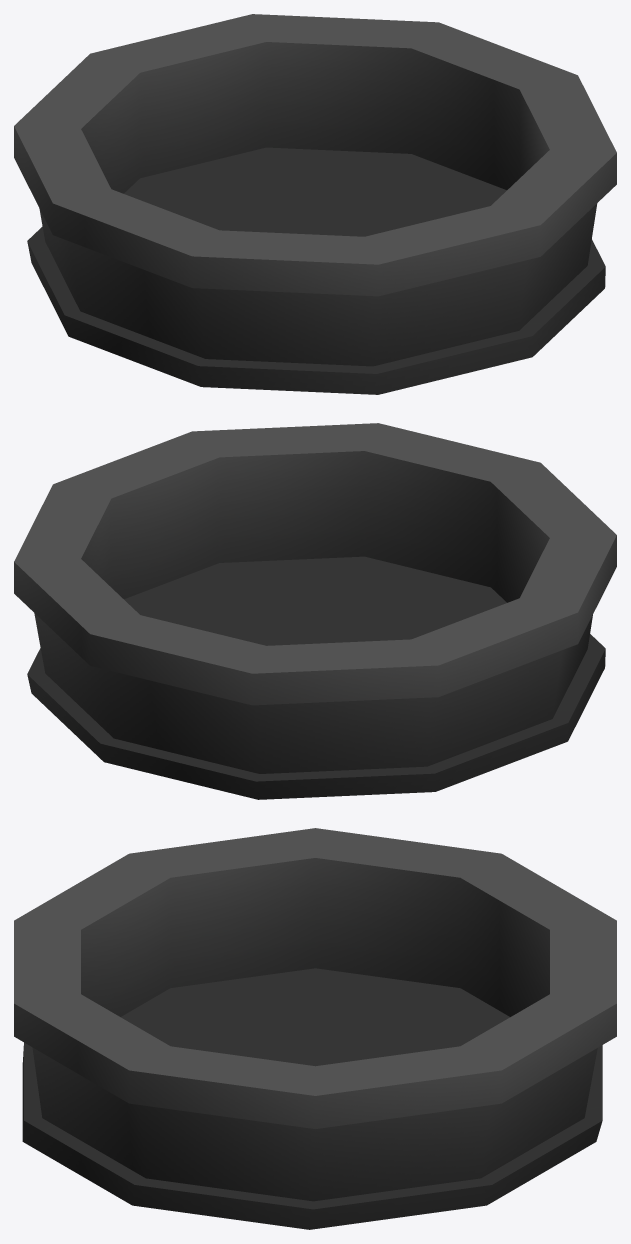
The model's file is WellWall_MESH_01.fbx.
The picture shows the model from 3 angles, top to bottom: view 1: azimuth 30°, elevation 25°; view 2: azimuth 150°, elevation 25°; view 3: azimuth 270°, elevation 25°; orthographic projection. The views are drawn at different scales.
Parts seen in each view (by area): view 1: WellWall_MESH_01; view 2: WellWall_MESH_01; view 3: WellWall_MESH_01.
Boxes of the visible parts, box(x1,y1,x2,y2) form: WellWall_MESH_01: box(14, 14, 616, 394); WellWall_MESH_01: box(14, 423, 616, 799); WellWall_MESH_01: box(14, 828, 616, 1229).
Size of the model in its own units: 398 by 97.18 by 378.
